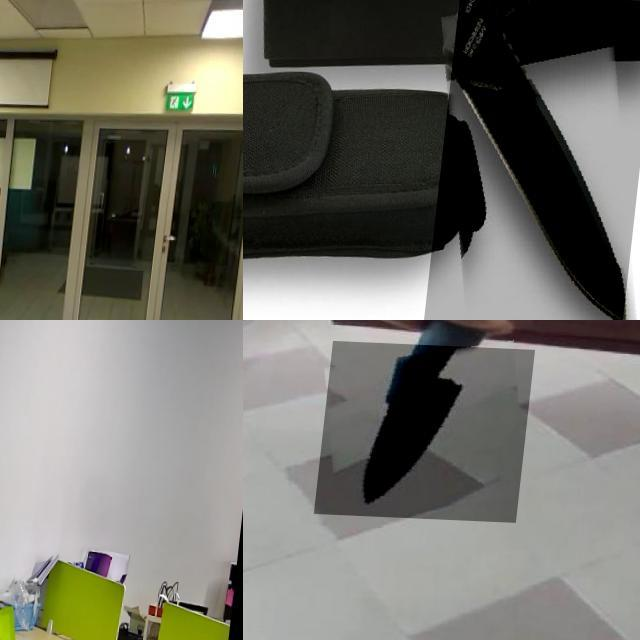-: (435, 0, 640, 320), (326, 340, 542, 520)
gun-knife-thesis - v11 Yolov5 augmented: (0, 204, 22, 251)
